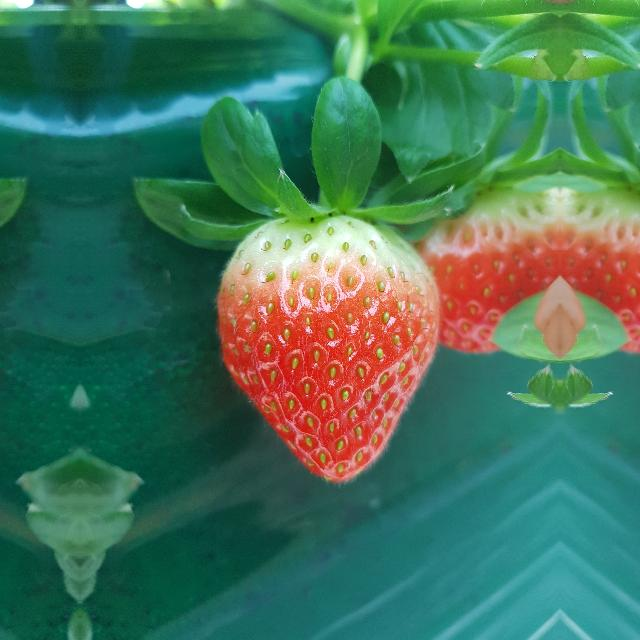Health_100: (425, 164, 559, 353), (561, 164, 640, 353)
Health_75: (213, 214, 442, 484)
